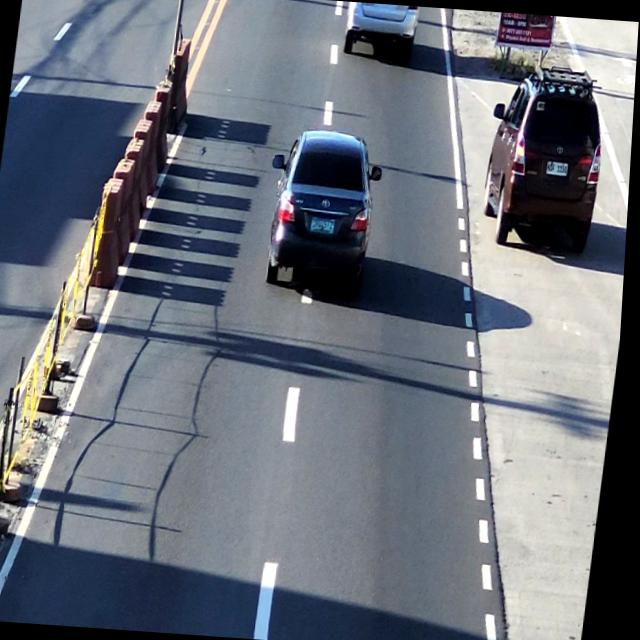Car: (482, 63, 613, 264), (263, 128, 384, 290), (341, 1, 422, 61)
License-Plate: (310, 213, 338, 234), (546, 159, 571, 179)
